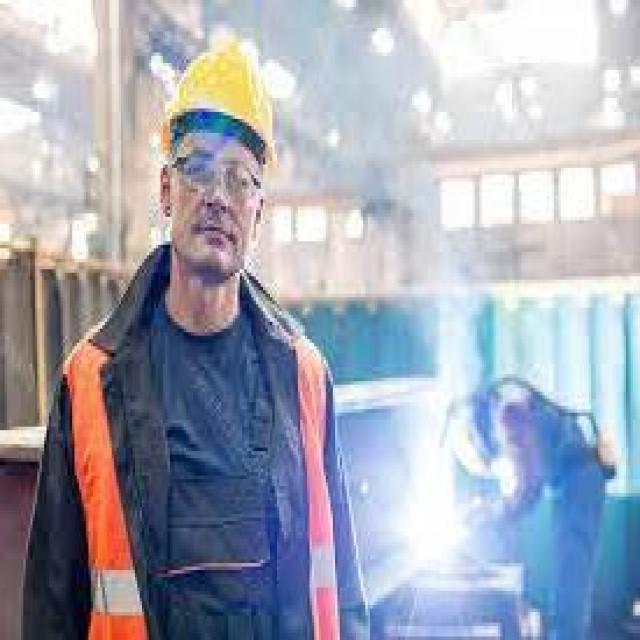Reflective-Jacket: (37, 290, 361, 633)
Safety-Helmet: (147, 31, 293, 186)
